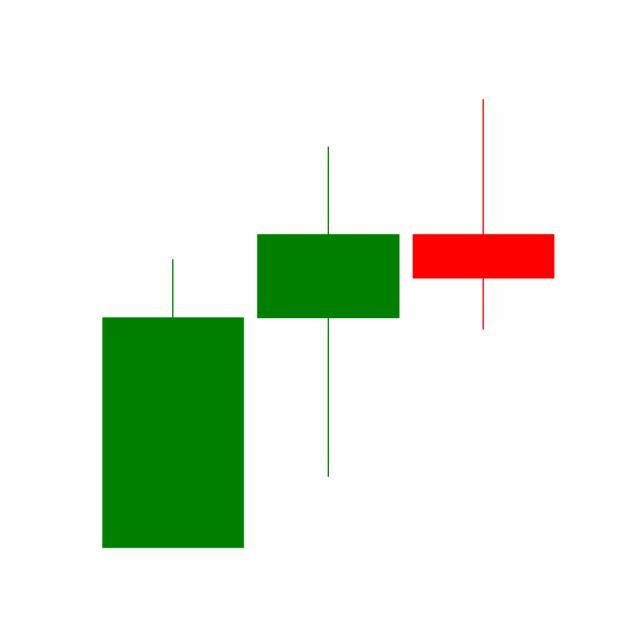Spinning Top: (250, 142, 407, 481)
